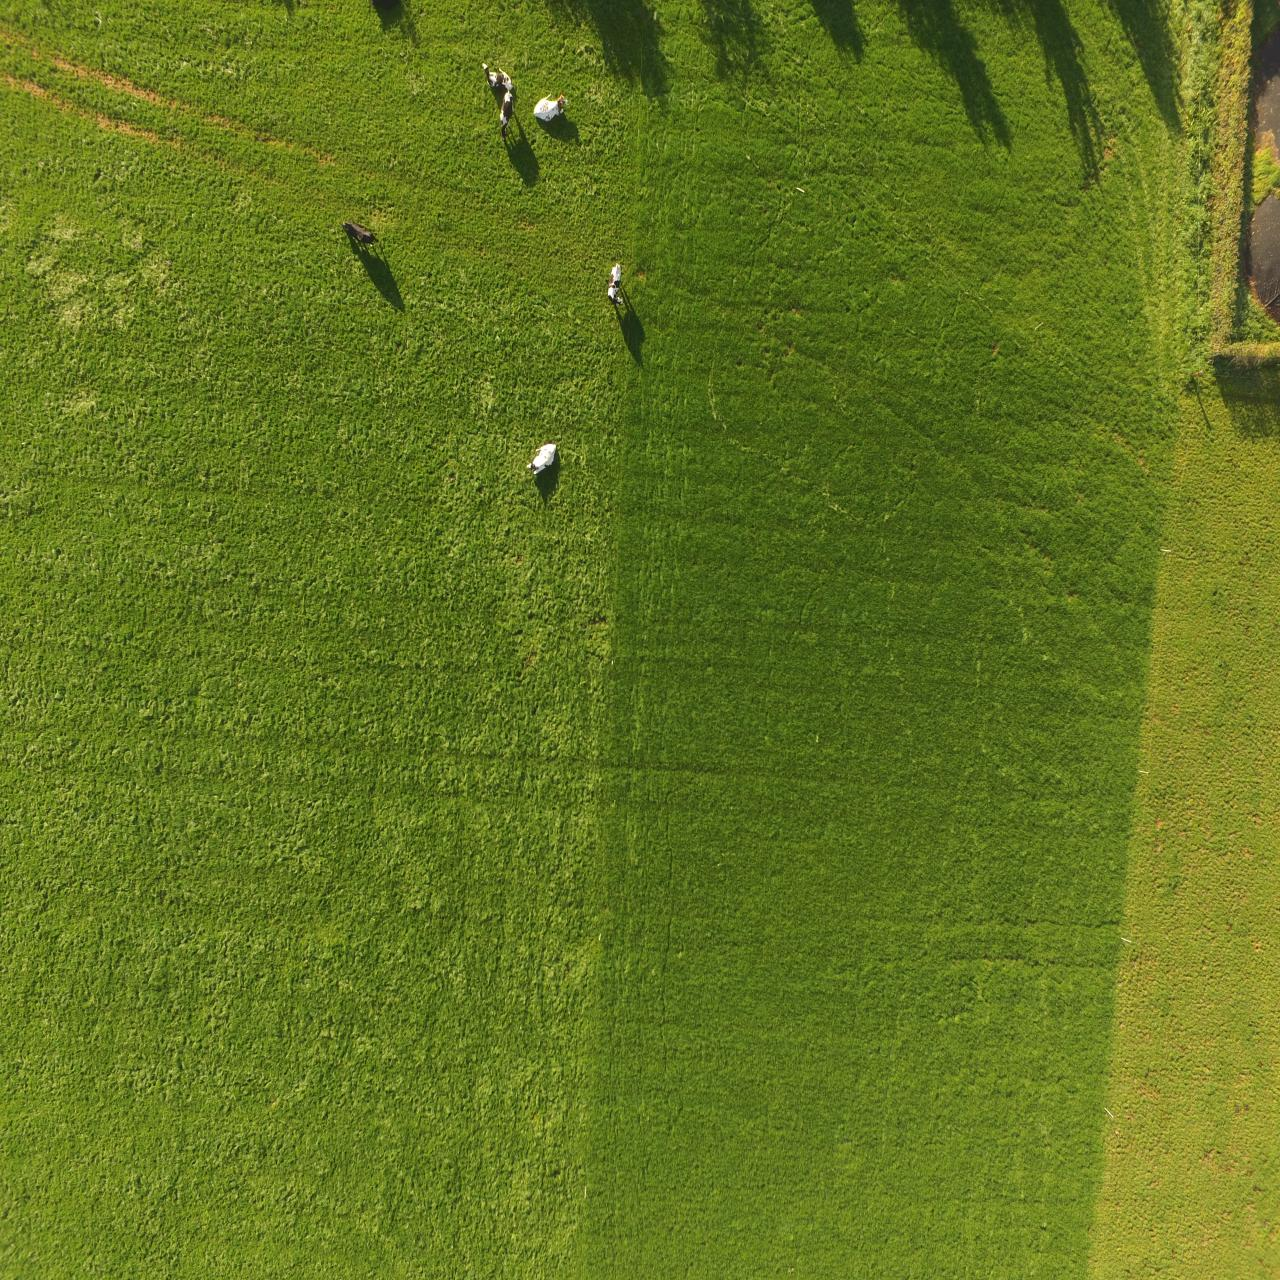cow: (338, 205, 377, 259), (523, 433, 560, 488), (493, 84, 520, 157), (532, 86, 567, 132), (602, 254, 629, 312), (484, 54, 519, 96)
